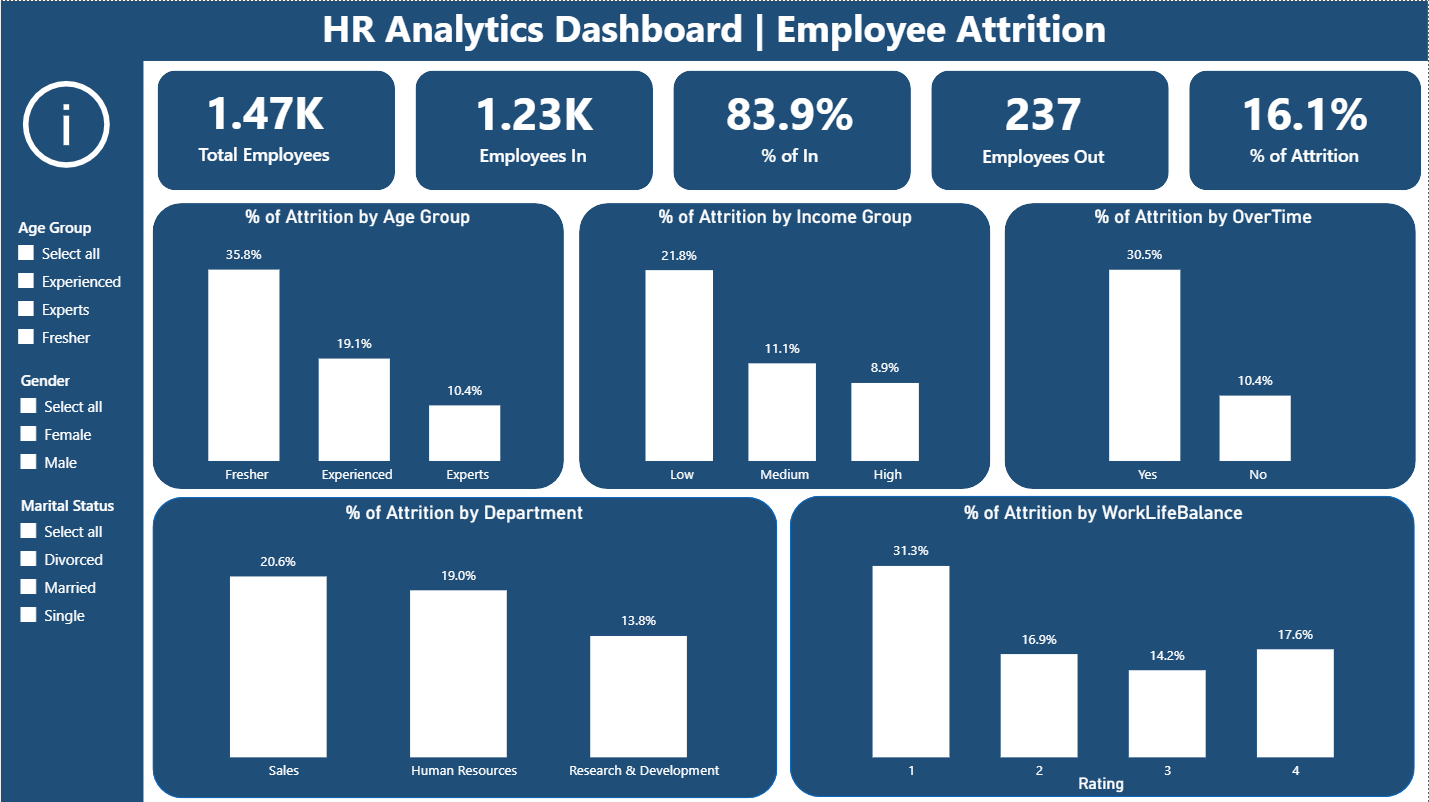

The page's visual inventory and layout, read from the dashboard file:
{"tool":"powerbi","page":{"name":"Dashboard","canvas":[1280,720],"ordinal":0},"visuals":[{"type":"shape","box":[0,0,128.8,720],"z":0},{"type":"card","fields":{"Values":["Measures(DAX).Total_Employees"]},"box":[141.1,62.2,191.1,93.8],"z":0,"group":"g2"},{"type":"shape","box":[141.2,62.5,212.9,107.5],"z":0,"group":"g1"},{"type":"shape","box":[122.5,0,1157.5,53.8],"z":1000},{"type":"shape","box":[372.3,62.5,212.9,107.5],"z":1000,"group":"g1"},{"type":"card","fields":{"Values":["Measures(DAX).Employees_Stay"]},"box":[382.4,63.5,191.2,93.2],"z":1000,"group":"g2"},{"type":"shape","box":[603.5,62.5,212.9,107.5],"z":2000,"group":"g1"},{"type":"card","fields":{"Values":["Measures(DAX).Employees_Left"]},"box":[839.8,63.5,190,94.4],"z":2000,"group":"g2"},{"type":"shape","box":[136.2,181.2,368.8,256.2],"z":2000},{"type":"group","id":"g1","title":"card","box":[141.2,62.5,1132.5,107.5],"z":3000},{"type":"shape","box":[834.6,62.5,212.9,107.5],"z":3000,"group":"g1"},{"type":"card","fields":{"Values":["Measures(DAX).% of Stay"]},"box":[612.3,63.8,191.2,93.8],"z":3000,"group":"g2"},{"type":"shape","box":[1065.8,62.5,207.9,107.5],"z":4000,"group":"g1"},{"type":"card","fields":{"Values":["Measures(DAX).% of Attrition"]},"box":[1073.3,63.5,191.2,93.2],"z":4000,"group":"g2"},{"type":"shape","box":[518.8,181.2,368.8,256.2],"z":4000},{"type":"shape","box":[900,181.2,368.8,256.2],"z":5000},{"type":"shape","box":[136.2,444,560,270],"z":6000},{"type":"shape","box":[707.5,443.8,560,270],"z":7000},{"type":"group","id":"g2","title":"kpi","box":[141.1,62.2,1123.3,95.6],"z":8000},{"type":"columnChart","fields":{"Category":["HR_Employee_Attrition.Age Group"],"Y":["Measures(DAX).% of Attrition"]},"box":[142.5,183.8,356.2,260],"z":9000},{"type":"columnChart","fields":{"Y":["Measures(DAX).% of Attrition"],"Category":["HR_Employee_Attrition.OverTime"]},"box":[900,183.8,356.2,260],"z":10000},{"type":"columnChart","fields":{"Y":["Measures(DAX).% of Attrition"],"Category":["HR_Employee_Attrition.Income Group"]},"box":[536.2,183.8,333.8,260],"z":11000},{"type":"columnChart","fields":{"Y":["Measures(DAX).% of Attrition"],"Category":["HR_Employee_Attrition.WorkLifeBalance"]},"box":[765,448.8,446.2,260],"z":12000},{"type":"columnChart","fields":{"Y":["Measures(DAX).% of Attrition"],"Category":["HR_Employee_Attrition.Department"]},"box":[136.2,448.8,558.8,260],"z":13000},{"type":"textbox","title":"HR Analytics Dashboard | Employee Attrition Analysis","box":[254.4,0,771.2,46.2],"z":14000},{"type":"actionButton","box":[12.1,62.9,121,94.4],"z":15000},{"type":"slicer","fields":{"Values":["HR_Employee_Attrition.Gender"]},"box":[5,325,107.5,123.8],"z":16000},{"type":"slicer","fields":{"Values":["HR_Employee_Attrition.MaritalStatus"]},"box":[5,437.5,128.8,151.2],"z":17000},{"type":"slicer","fields":{"Values":["HR_Employee_Attrition.Age Group"]},"box":[3.6,188.7,124.6,136.7],"z":18000},{"type":"textbox","title":"Rating","box":[961.2,692.5,86.2,21.2],"z":19000}]}

Visuals, with their boxes in screenshot pixels (x1, y1, x2, y2), scaled from the page's 1280x720 canvas onto the 1429x802 screenshot:
shape: 0:0:144:801
card - Measures(DAX).Total_Employees: 158:69:371:174
shape: 158:70:395:189
shape: 137:0:1428:60
shape: 416:70:653:189
card - Measures(DAX).Employees_Stay: 427:71:640:175
shape: 674:70:911:189
card - Measures(DAX).Employees_Left: 938:71:1150:176
shape: 152:202:564:487
"card" group: 158:70:1422:189
shape: 932:70:1169:189
card - Measures(DAX).% of Stay: 684:71:897:176
shape: 1190:70:1422:189
card - Measures(DAX).% of Attrition: 1198:71:1412:175
shape: 579:202:991:487
shape: 1005:202:1416:487
shape: 152:495:777:795
shape: 790:494:1415:795
"kpi" group: 158:69:1412:176
columnChart - HR_Employee_Attrition.Age Group x Measures(DAX).% of Attrition: 159:205:557:494
columnChart - Measures(DAX).% of Attrition x HR_Employee_Attrition.OverTime: 1005:205:1402:494
columnChart - Measures(DAX).% of Attrition x HR_Employee_Attrition.Income Group: 599:205:971:494
columnChart - Measures(DAX).% of Attrition x HR_Employee_Attrition.WorkLifeBalance: 854:500:1352:790
columnChart - Measures(DAX).% of Attrition x HR_Employee_Attrition.Department: 152:500:776:790
"HR Analytics Dashboard | Employee Attrition Analysis" textbox: 284:0:1145:51
actionButton: 14:70:149:175
slicer - HR_Employee_Attrition.Gender: 6:362:126:500
slicer - HR_Employee_Attrition.MaritalStatus: 6:487:149:656
slicer - HR_Employee_Attrition.Age Group: 4:210:143:362
"Rating" textbox: 1073:771:1169:795
